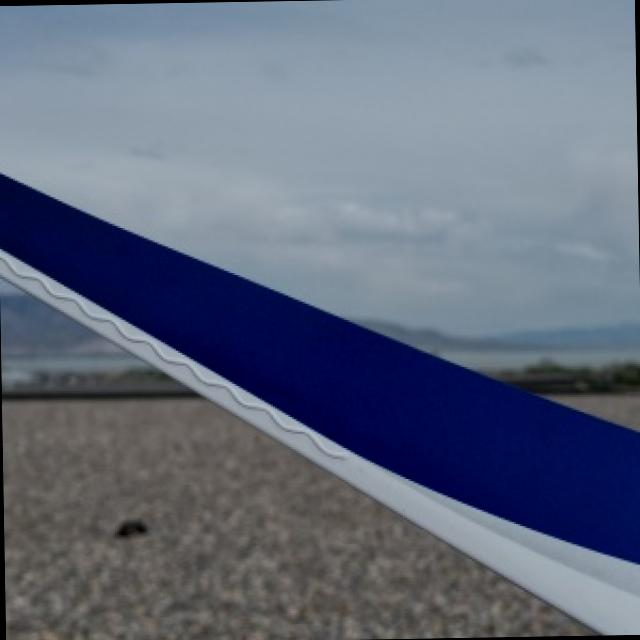healthy: (1, 170, 640, 632), (4, 399, 594, 640)
